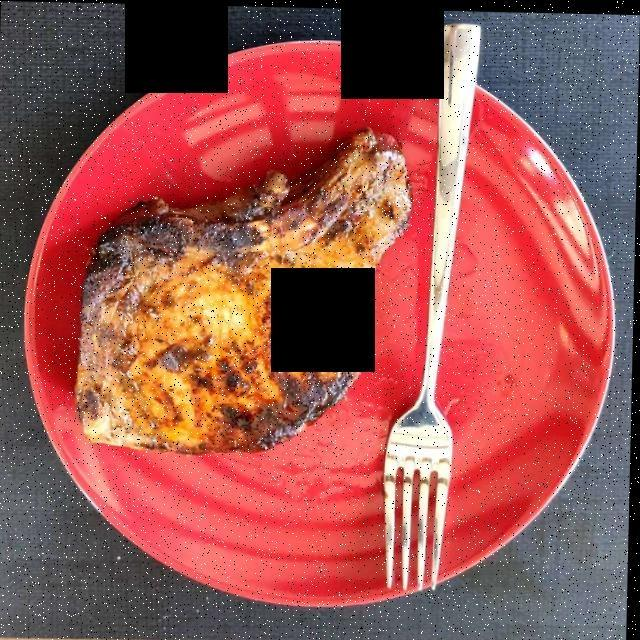pork: (80, 130, 413, 445)
